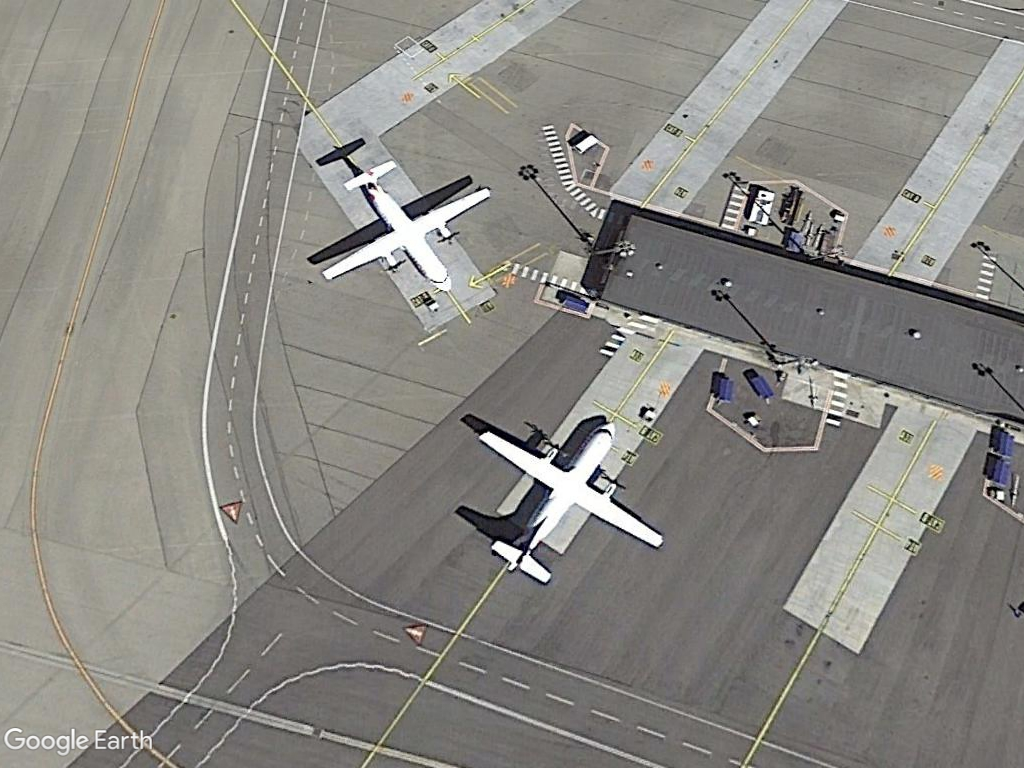propeller: (470, 414, 670, 593), (314, 153, 494, 298)
